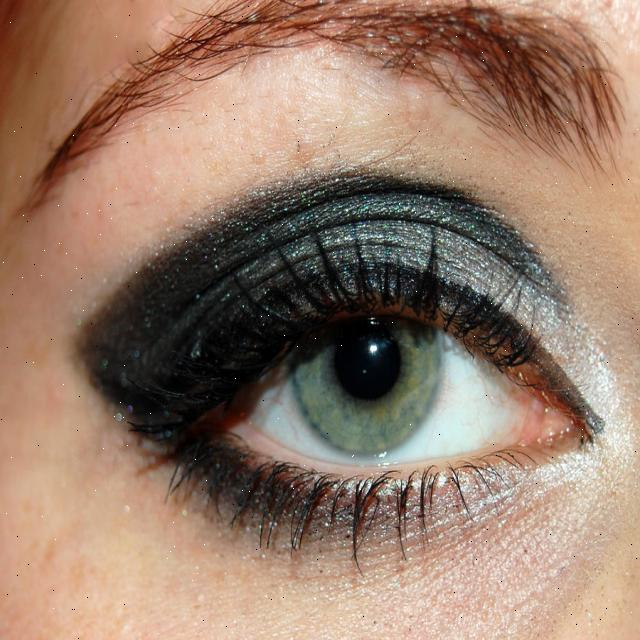Normal: (288, 266, 441, 459)
